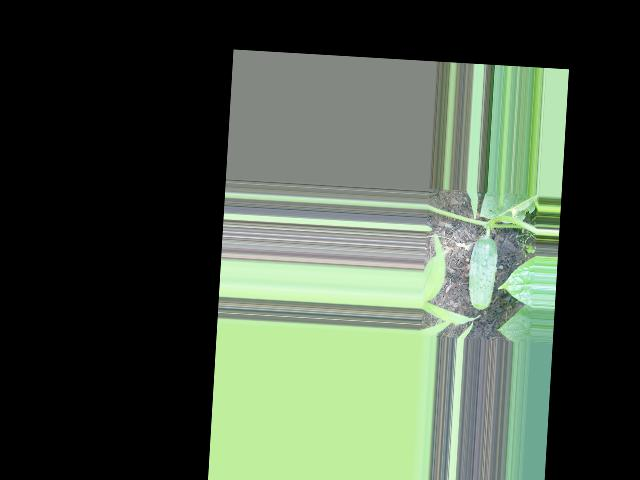cucumber: (466, 235, 498, 311)
